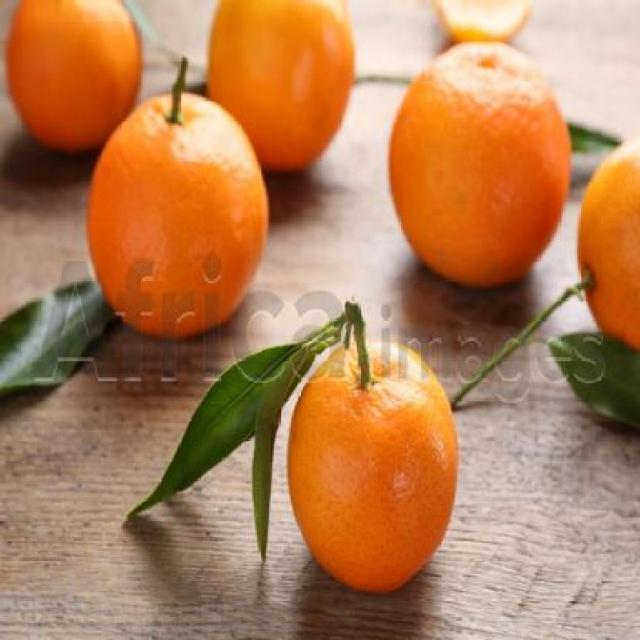Orange: (85, 57, 269, 338), (386, 39, 571, 288), (284, 335, 458, 594), (204, 0, 355, 172), (3, 0, 141, 152), (576, 120, 638, 357), (428, 0, 532, 43)
